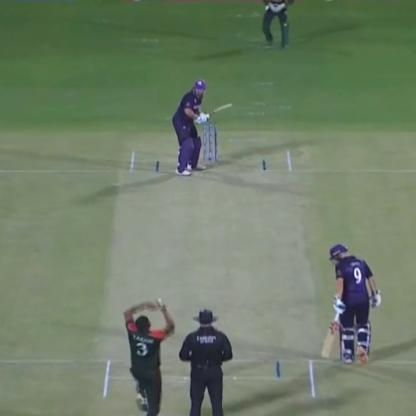ball: (153, 296, 165, 308)
bat: (320, 304, 346, 366), (198, 100, 241, 120)
pitch: (100, 144, 320, 407)
